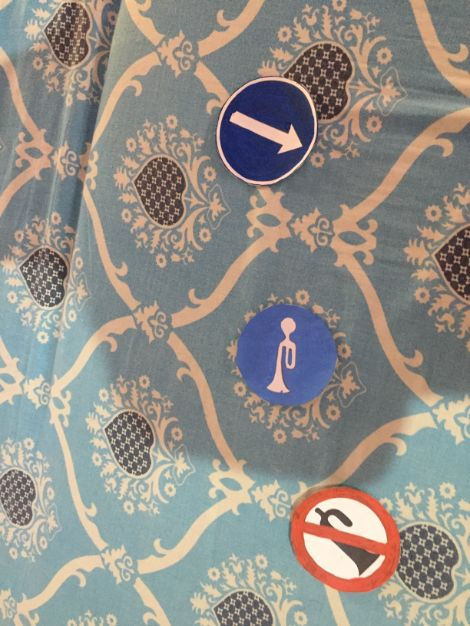blow-horn: (235, 300, 344, 409)
go-stright: (214, 77, 324, 187)
no-horn: (289, 481, 400, 592)
